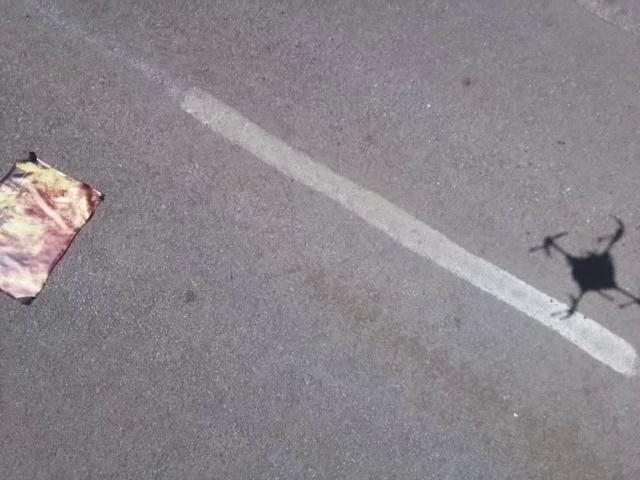fire-poster: (0, 148, 106, 306)
